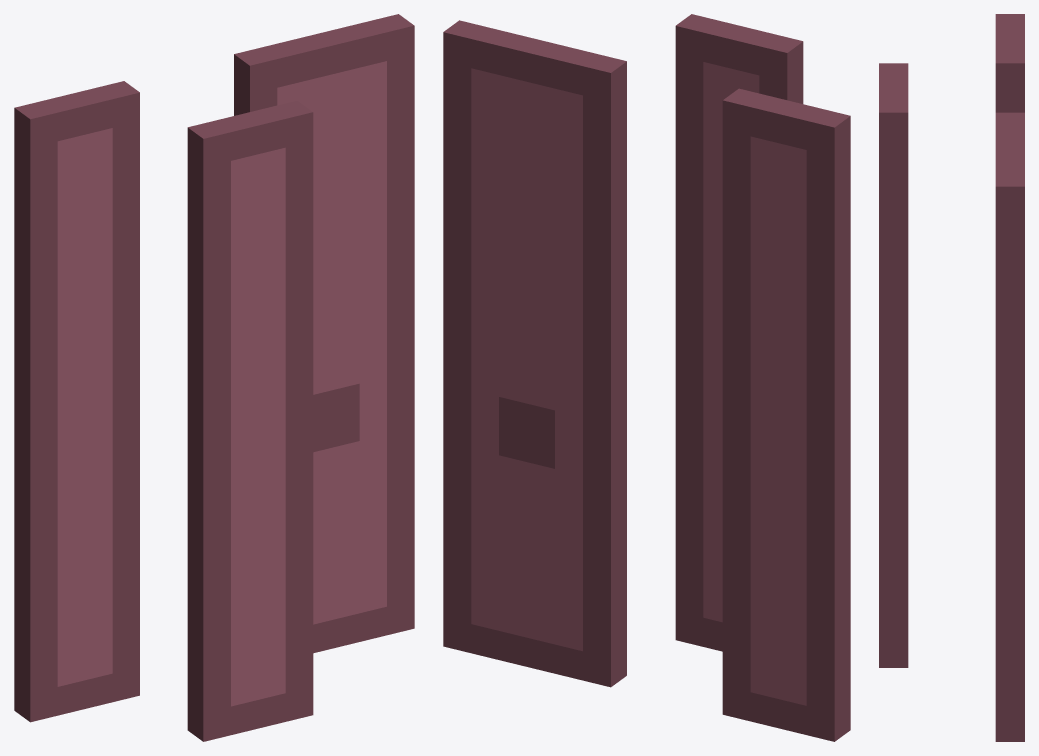
File: biombo_01.glb
3 renders of one model, left to right at view 1: azimuth 30°, elevation 25°; view 2: azimuth 150°, elevation 25°; view 3: azimuth 270°, elevation 25°, orthographic. The views are drawn at different scales.
Visible parts, largest first — view 1: biombo; view 2: biombo; view 3: biombo.
Boxes of the visible parts, x1,y1,x2,y2 form: biombo: (14,14,414,741); biombo: (443,14,850,741); biombo: (879,14,1024,741).
Bounding box in the file's own units: 1 × 1.5 × 0.3571.
